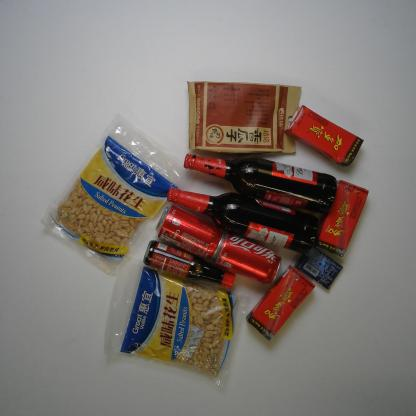Alcohol: (164, 183, 322, 256), (179, 151, 341, 214)
Dried Food: (183, 75, 304, 160)
Dried Fruit: (37, 109, 189, 279), (99, 254, 250, 391)
Drink: (244, 263, 317, 343), (282, 102, 366, 170), (313, 178, 370, 260), (152, 203, 229, 263), (210, 230, 284, 288)
Gum: (291, 244, 344, 293)
Seasoner: (141, 238, 238, 291)
